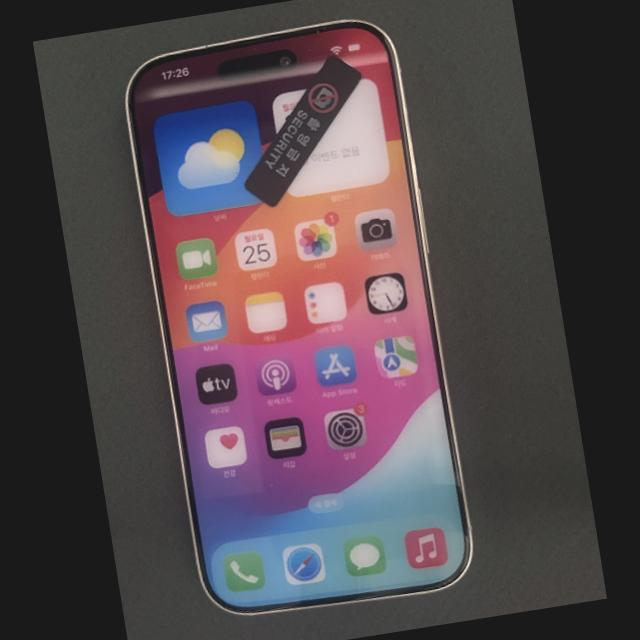phone: (127, 21, 471, 613)
sticker: (245, 57, 361, 206)
